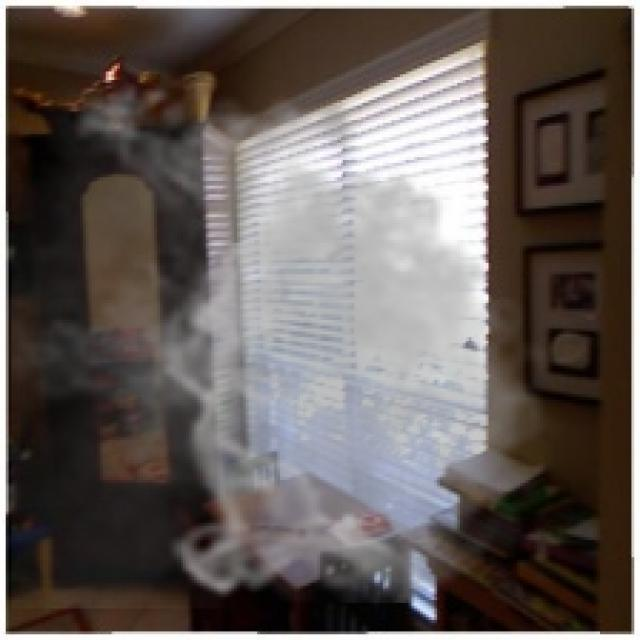Smoke: (11, 66, 566, 608)
